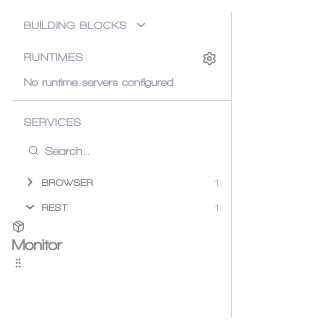
Test: Sidebar › selected runtime › unfolds the rest when the search finds nothing it can run
In the field with placeholder "Search…": point(130, 150) [45, 142, 215, 160], type "tim"
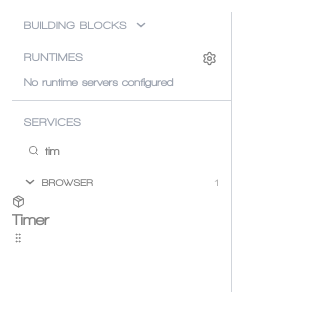
Check: the text "Timer" is shown, box [12, 210, 50, 228]
